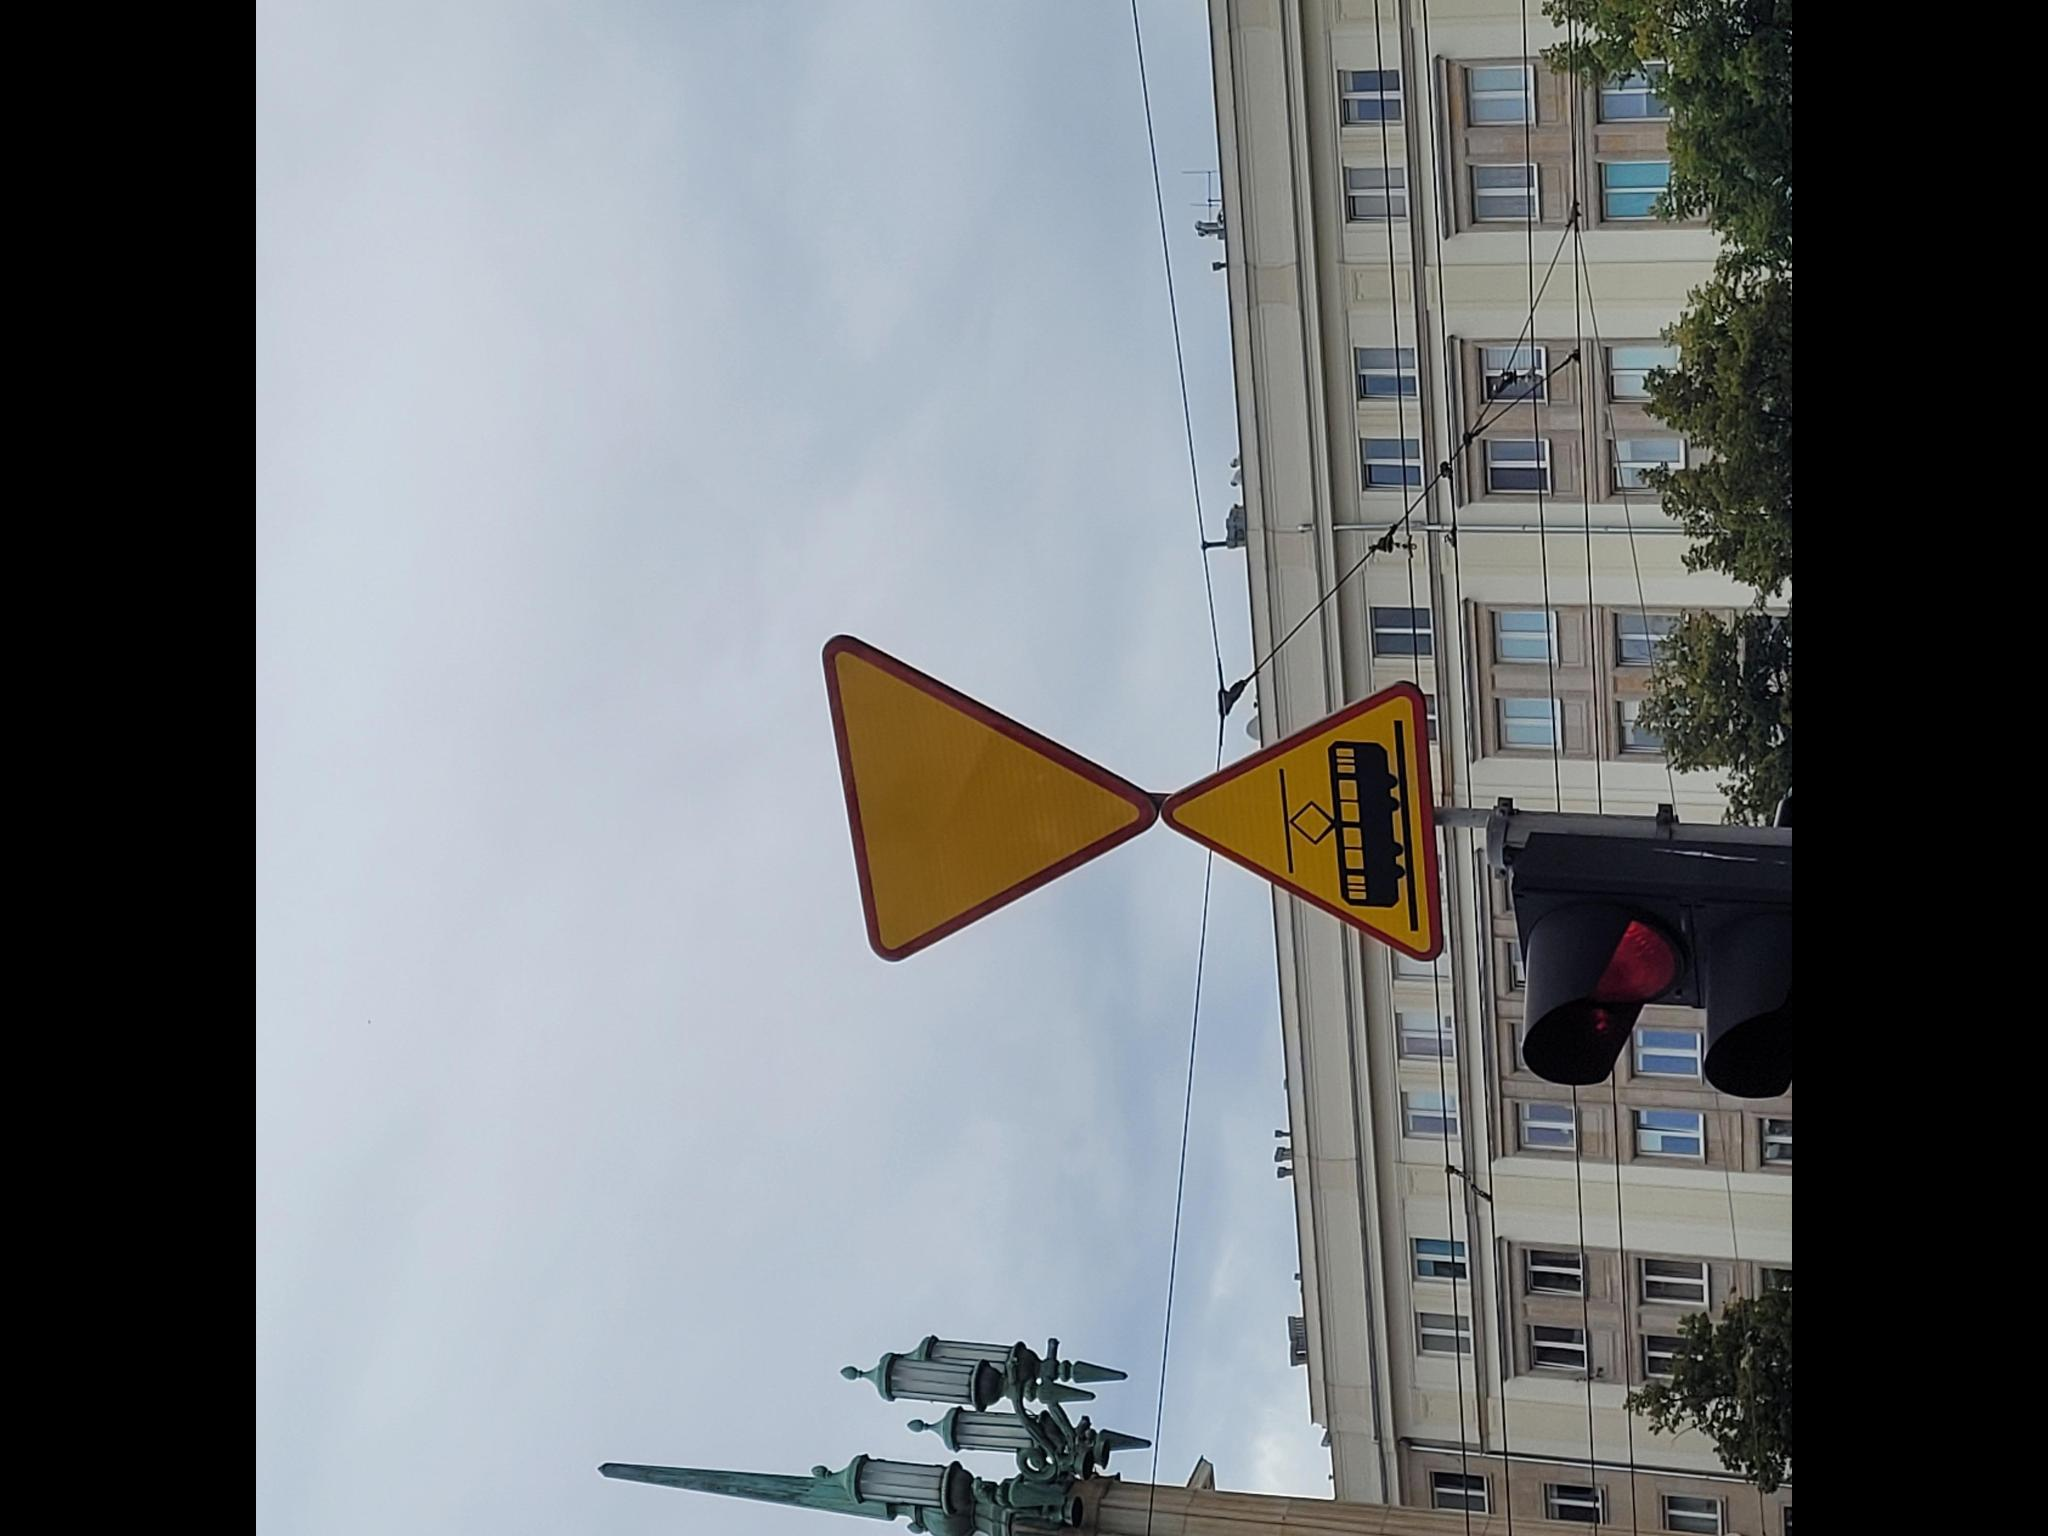warning: (819, 632, 1159, 963), (1155, 678, 1443, 960)
